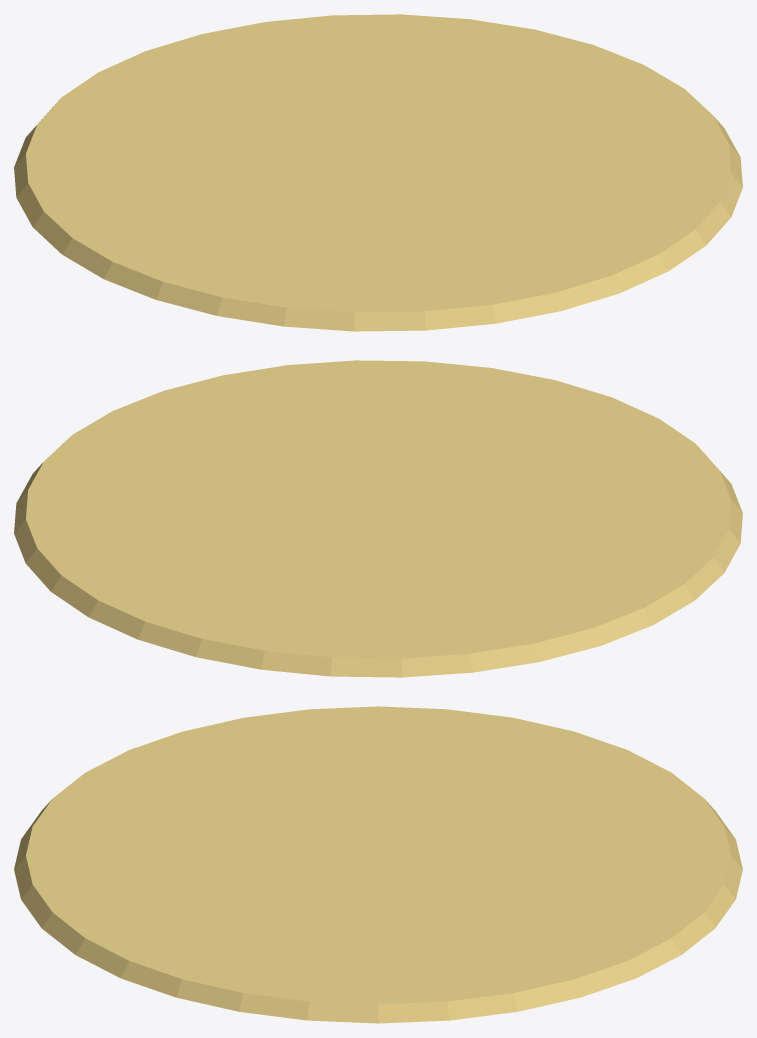
Rendered from island.fbx.
The picture shows the model from 3 angles, top to bottom: view 1: azimuth 30°, elevation 25°; view 2: azimuth 150°, elevation 25°; view 3: azimuth 270°, elevation 25°; orthographic projection.
Parts seen in each view (by area): view 1: Circle; view 2: Circle; view 3: Circle.
Part boxes in pixels (x1,y1,x2,y2): Circle: [14, 14, 742, 331]; Circle: [14, 360, 742, 677]; Circle: [14, 706, 742, 1023].
Bounding box in the file's own units: 1449 × 30.82 × 1449.
